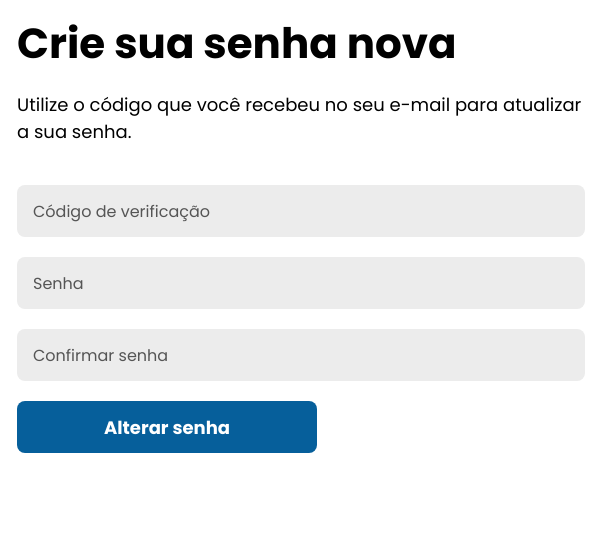
Scenario: Página de Validação de Senha › deve mostrar erro de validação quando as senhas não coincidirem
Type "password123" into the password field with placeholder "Senha".
click(301, 283); type("password123")  # box [17,257,585,309]
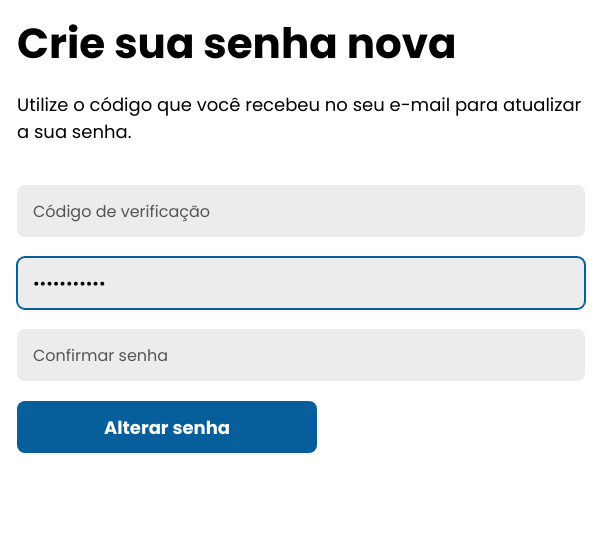
Type "password456" into the password field with placeholder "Confirmar senha".
click(301, 355); type("password456")  # box [17,329,585,381]
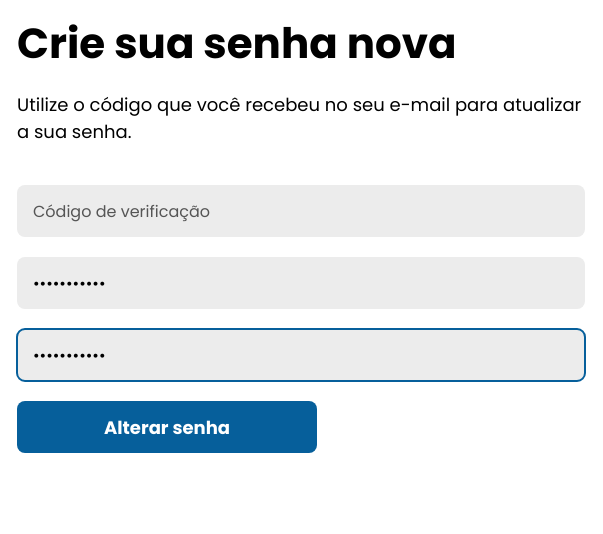
Click the button "Alterar senha".
click(167, 427)  # box [17,401,317,453]
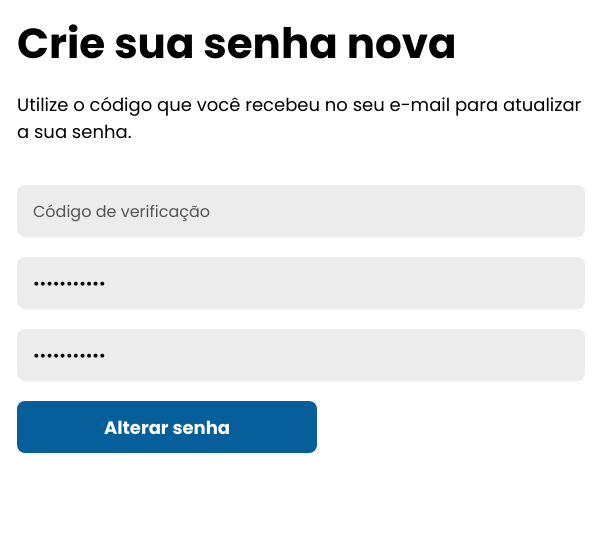
Type "password456" into the 2nd password field with placeholder "Confirmar senha".
click(301, 355); type("password456")  # box [17,329,585,381]
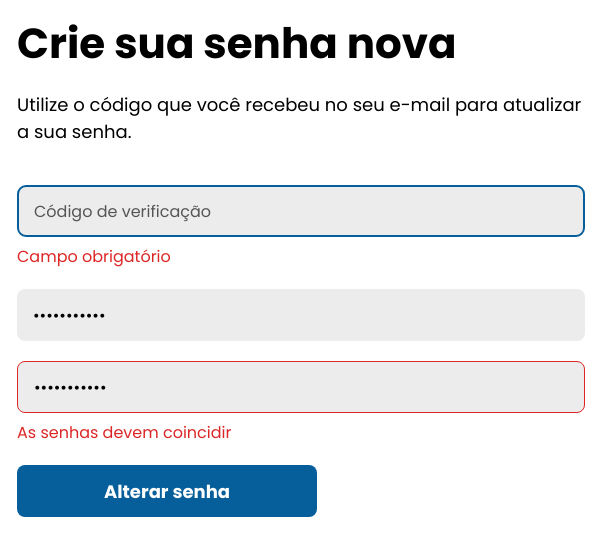
Now the text "As senhas devem coincidir" is shown, box [17,421,232,444]
